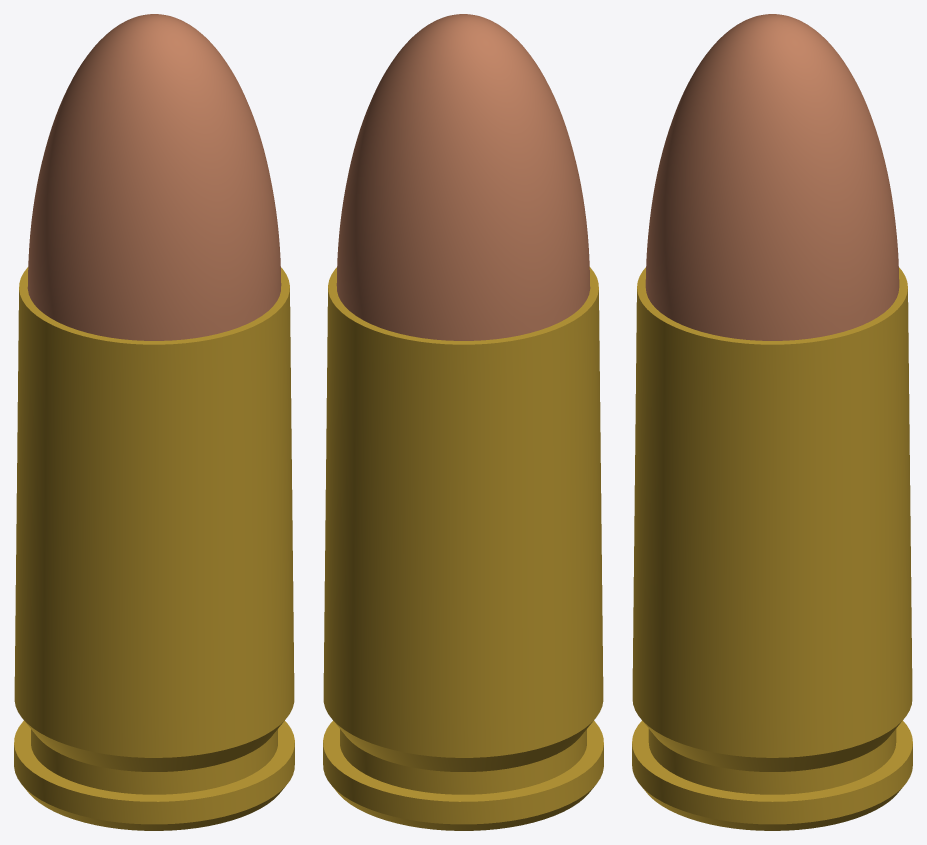
File: 9x19mm-Parabellum.FBX
3 views of the same model, side by side, from view 1: azimuth 30°, elevation 25°; view 2: azimuth 150°, elevation 25°; view 3: azimuth 270°, elevation 25° (orthographic).
Visible parts, largest first — view 1: 9x19mm_Parabellum_Case, 9x19mm_Parabellum_Bullet; view 2: 9x19mm_Parabellum_Case, 9x19mm_Parabellum_Bullet; view 3: 9x19mm_Parabellum_Case, 9x19mm_Parabellum_Bullet.
Part boxes in pixels (<box>): 9x19mm_Parabellum_Case: <box>14,267,294,830</box>; 9x19mm_Parabellum_Bullet: <box>27,14,281,340</box>; 9x19mm_Parabellum_Case: <box>323,267,603,830</box>; 9x19mm_Parabellum_Bullet: <box>336,14,590,340</box>; 9x19mm_Parabellum_Case: <box>632,267,912,830</box>; 9x19mm_Parabellum_Bullet: <box>645,14,899,340</box>.
Size of the model in its own units: 0.394 by 1.17 by 0.394.
